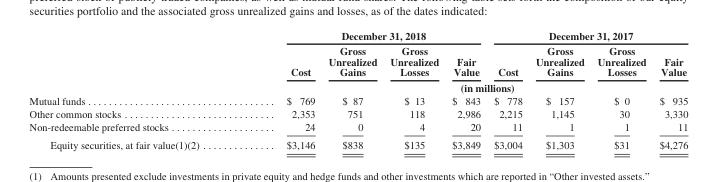table: (28, 28, 687, 150)
table column: (28, 28, 242, 150), (242, 28, 321, 150), (382, 28, 444, 150), (528, 28, 590, 150), (590, 28, 652, 150), (321, 28, 382, 150), (444, 28, 486, 150), (486, 28, 528, 150), (652, 28, 687, 150)
table column header: (28, 28, 687, 93)
table row: (28, 42, 687, 79), (28, 120, 687, 135), (28, 135, 687, 150), (28, 28, 687, 42), (28, 79, 687, 93), (28, 106, 687, 120), (28, 93, 687, 106)
table spanning cell: (242, 79, 687, 93), (242, 28, 486, 42), (486, 28, 687, 42)
